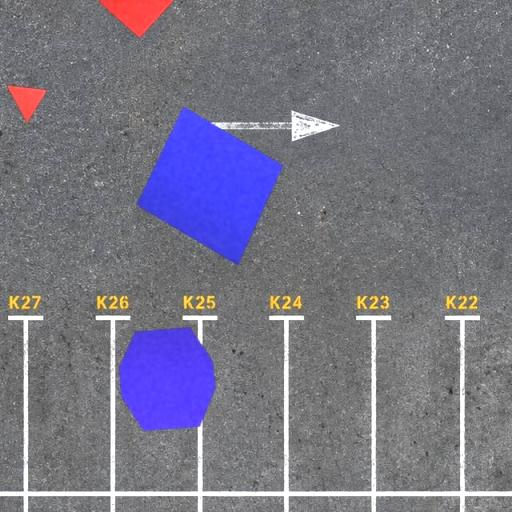BLUE_SQUARE: (136, 106, 284, 266)
RED_SQUARE: (98, 0, 178, 39)
